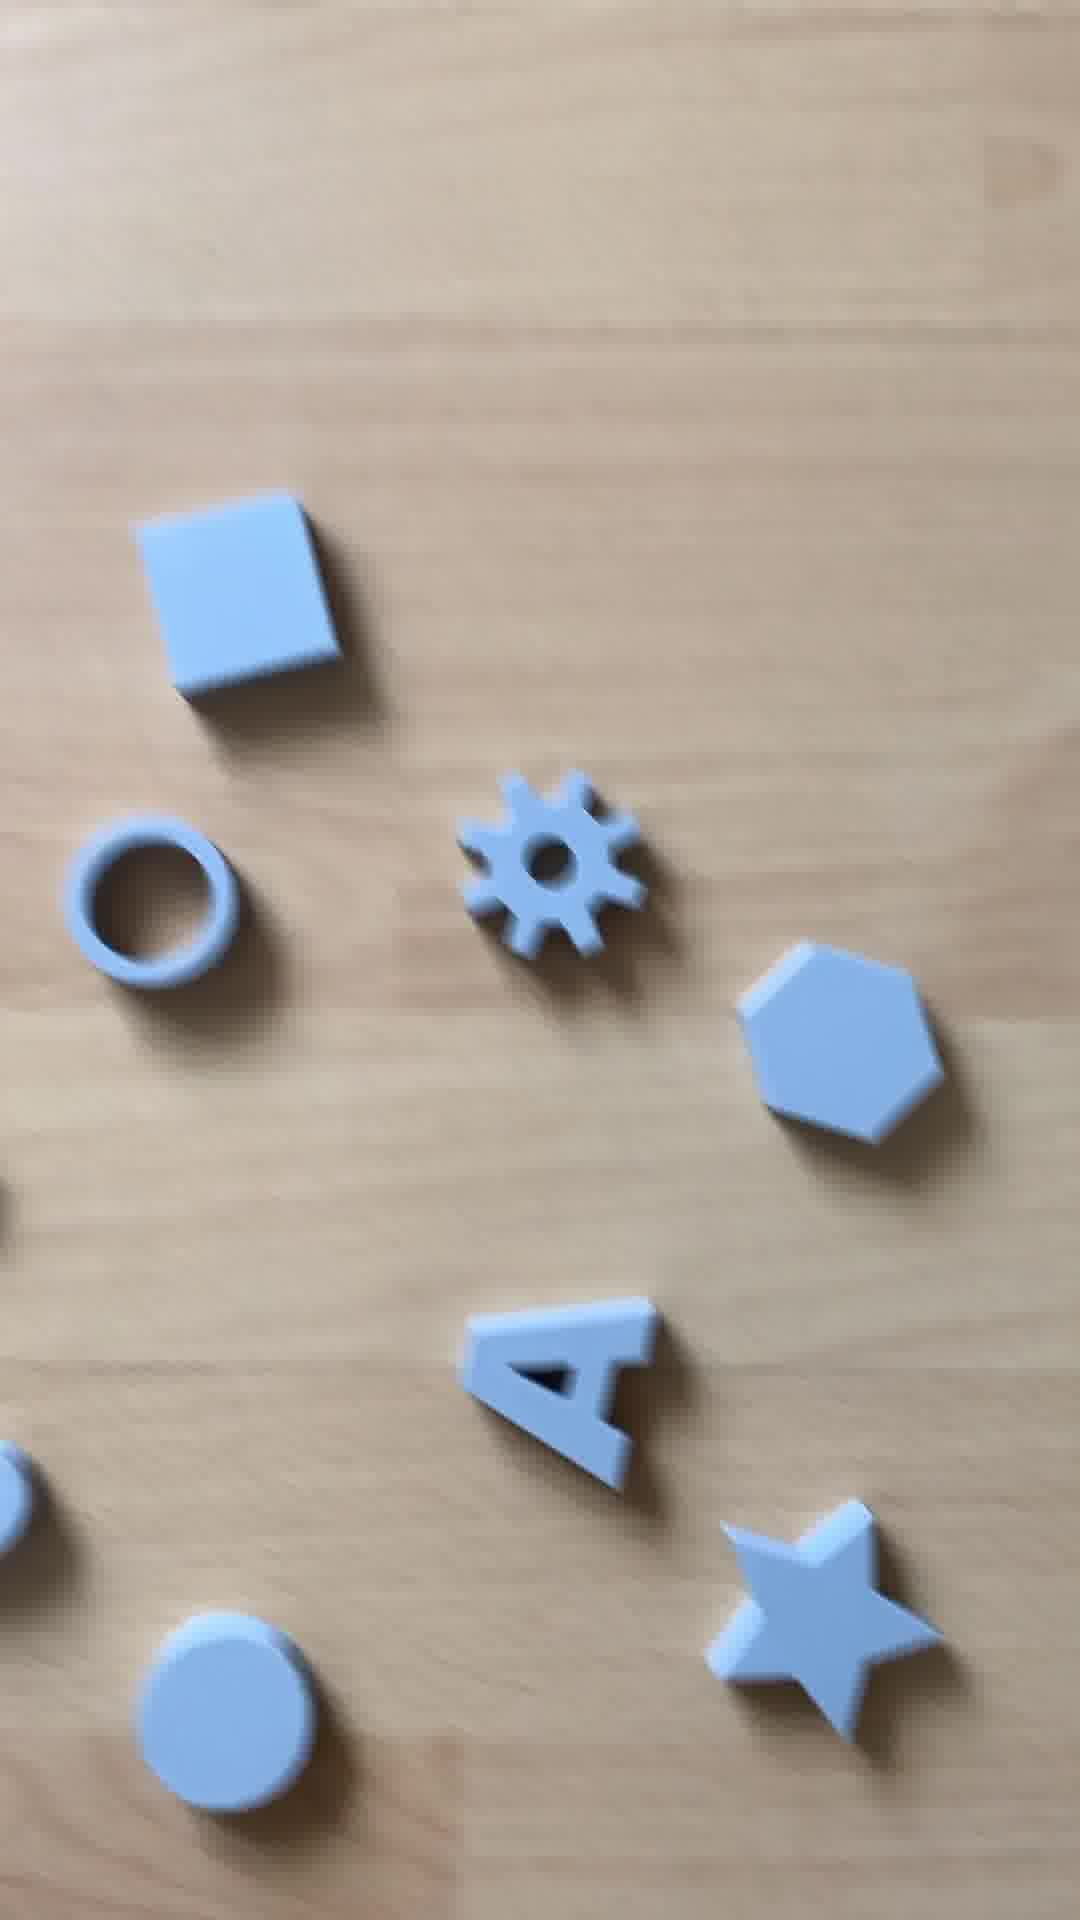Gray A-letter: (454, 1287, 658, 1497)
Gray circle: (119, 1607, 327, 1804)
Gray gear: (456, 775, 659, 967)
Gray hexagon: (731, 944, 931, 1159)
Gray ring: (62, 820, 247, 993)
Gray square: (142, 506, 335, 699)
Gray star: (688, 1509, 942, 1720)
